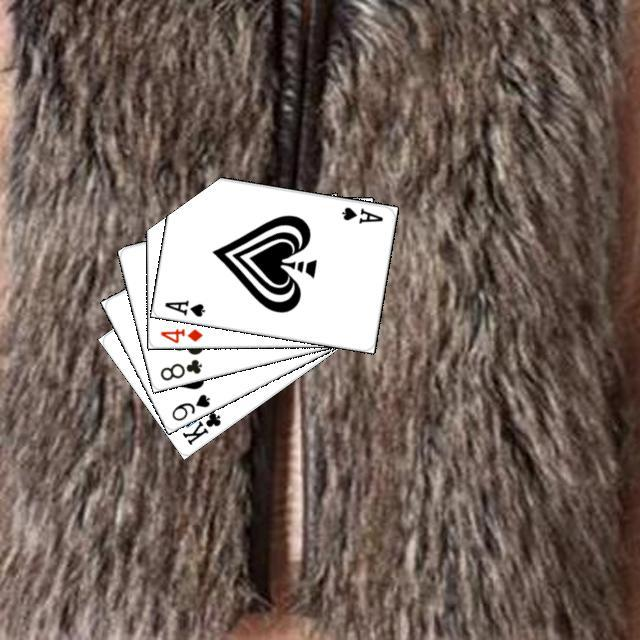4d: (156, 324, 204, 344)
8c: (155, 354, 204, 382)
9s: (167, 389, 212, 423)
As: (336, 202, 385, 225), (160, 295, 207, 318)
Kc: (177, 400, 223, 447)
